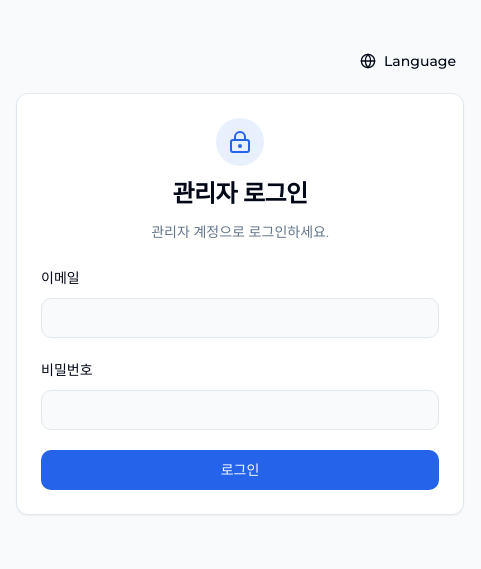
Test: Admin login form › Given action error forbidden When submitting Then it translates and focuses the error
Type "admin@example.com" into the field labelled "이메일" at (240, 318), box [41,298,439,338]
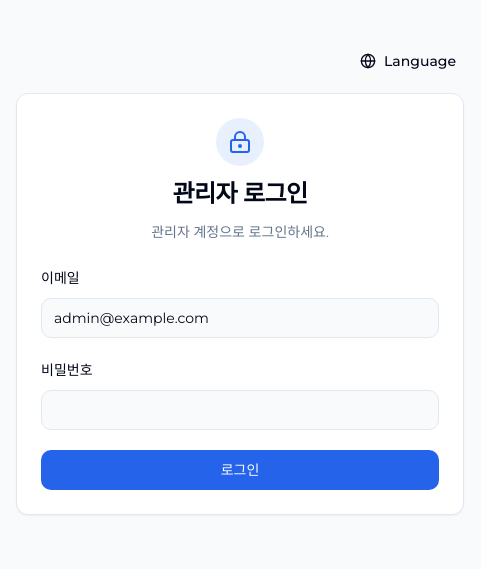
Type "secret-password" into the password field labelled "비밀번호" at (240, 410), box [41,390,439,430]
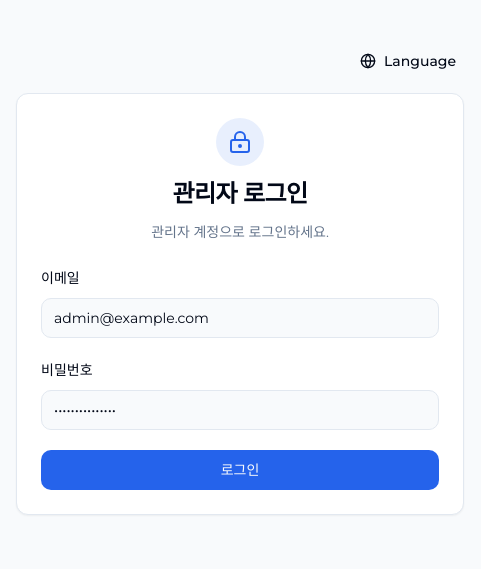
Click the button "로그인" at (240, 470), box [41,450,439,490]
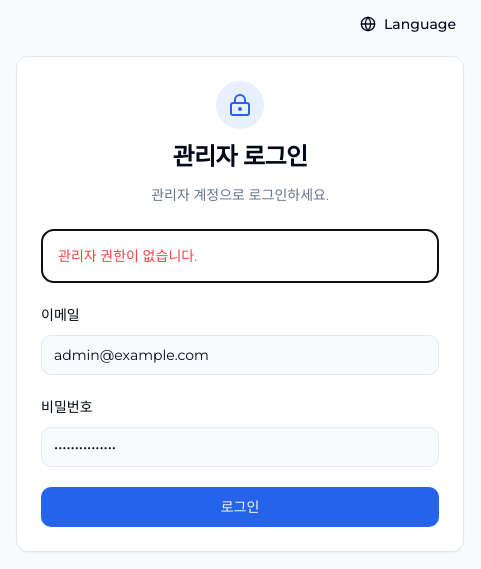
Now the message reads "관리자 권한이 없습니다.", box [58,247,197,265]
